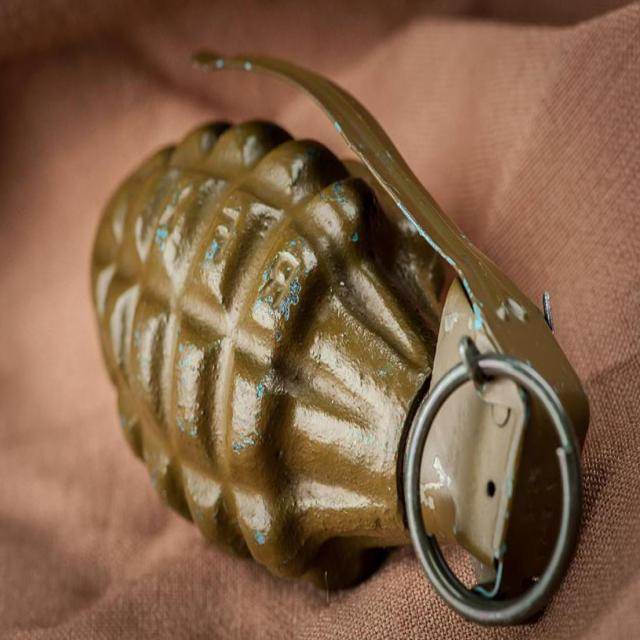Grenade: (89, 52, 590, 628)
